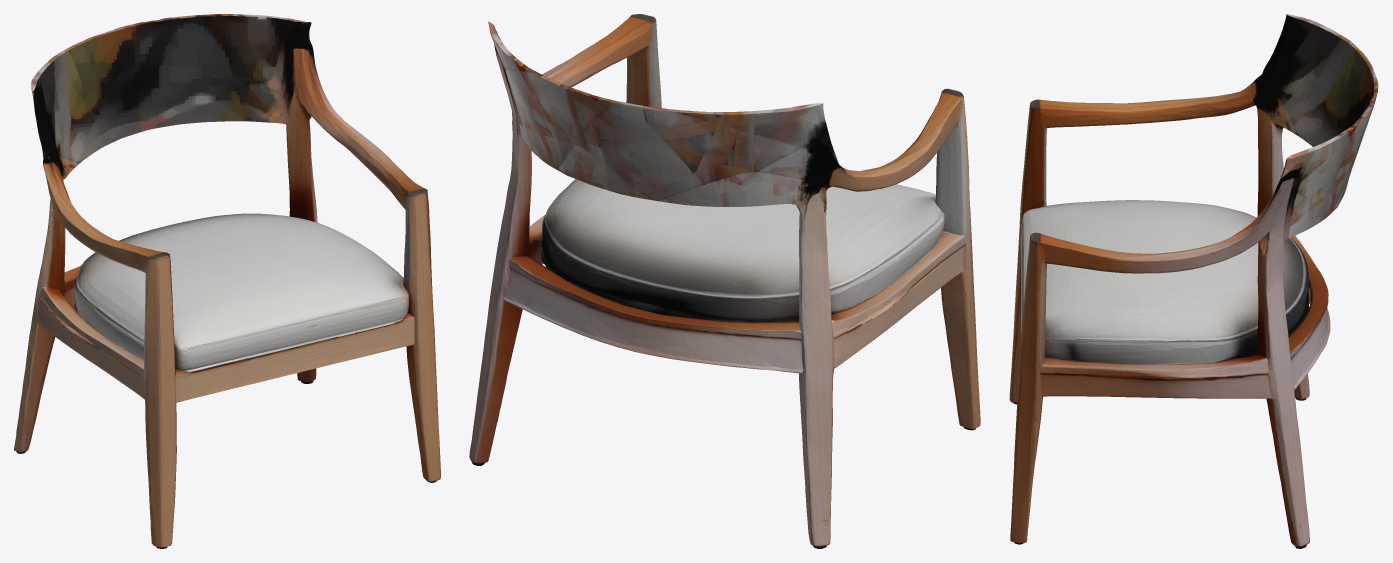
The model's file is krzesło_2.glb.
3 renders of one model, left to right at view 1: azimuth 30°, elevation 25°; view 2: azimuth 150°, elevation 25°; view 3: azimuth 270°, elevation 25°, orthographic. The views are drawn at different scales.
Visible parts, largest first — view 1: world; view 2: world; view 3: world.
Part boxes in pixels (<box>): world: <box>14,14,440,548</box>; world: <box>469,14,980,548</box>; world: <box>1009,14,1378,548</box>.
Bounding box in the file's own units: 0.885 × 1 × 0.8636.
1 material, 1 textured.
